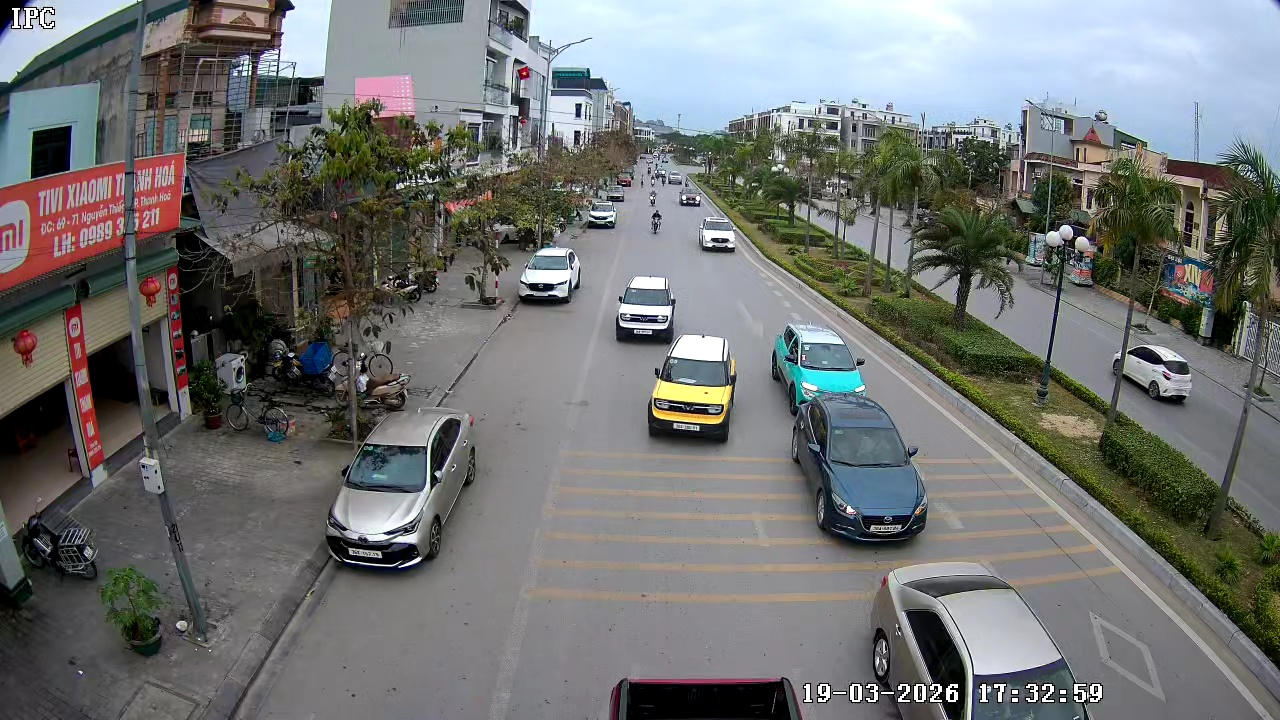car: (862, 560, 1105, 719), (325, 406, 477, 571), (790, 394, 929, 538), (647, 332, 738, 442), (770, 323, 867, 415), (1109, 338, 1194, 406), (614, 273, 680, 342), (518, 246, 582, 304), (697, 213, 738, 253), (583, 201, 619, 229), (678, 186, 703, 209)
motorbike: (355, 342, 412, 412), (649, 203, 663, 234)
